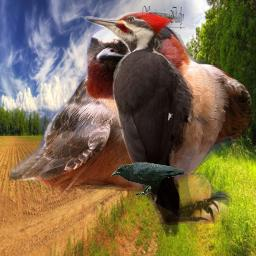Crow: (111, 162, 184, 196)
Swallow: (9, 21, 252, 224)
Woodpecker: (81, 12, 200, 237)
